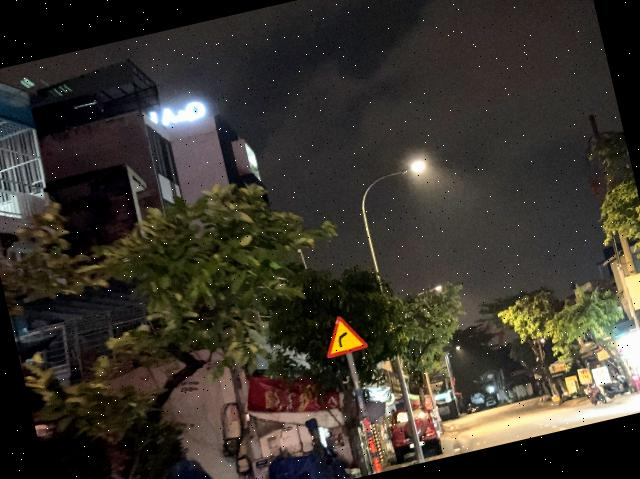cho-ngoat-nguy-hiem-ben-trai: (318, 310, 369, 358)
